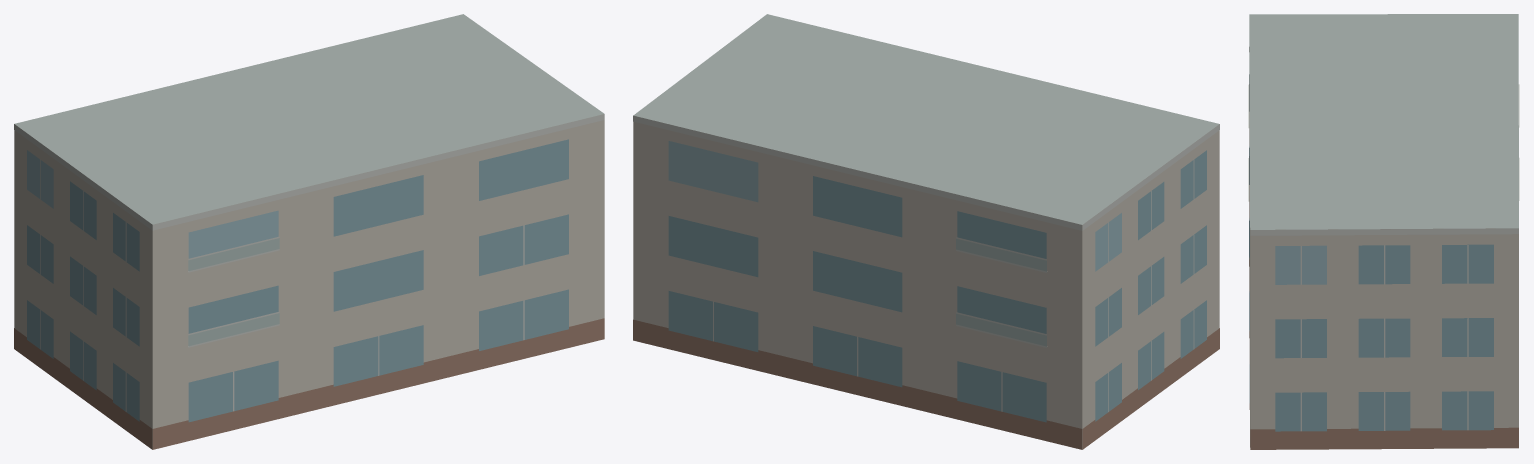
Rendered from survey-upis-32823825.glb.
The picture shows the model from 3 angles, left to right: view 1: azimuth 30°, elevation 25°; view 2: azimuth 150°, elevation 25°; view 3: azimuth 270°, elevation 25°; orthographic projection. The views are drawn at different scales.
Visible parts, largest first — view 1: survey-upis-32823825.tmp; view 2: survey-upis-32823825.tmp; view 3: survey-upis-32823825.tmp.
Part boxes in pixels (x1,y1,x2,y2): survey-upis-32823825.tmp: (14, 14, 604, 449); survey-upis-32823825.tmp: (633, 14, 1219, 449); survey-upis-32823825.tmp: (1248, 14, 1519, 449).
Size of the model in its own units: 19.28 by 9.15 by 10.24.
